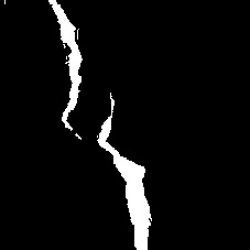crack: (99, 93, 154, 248), (48, 2, 85, 142)
